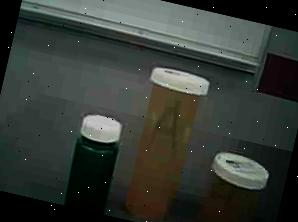Bottle A: (115, 59, 211, 222)
Bottle B: (187, 146, 276, 222)
Bottle C: (58, 105, 130, 215)
